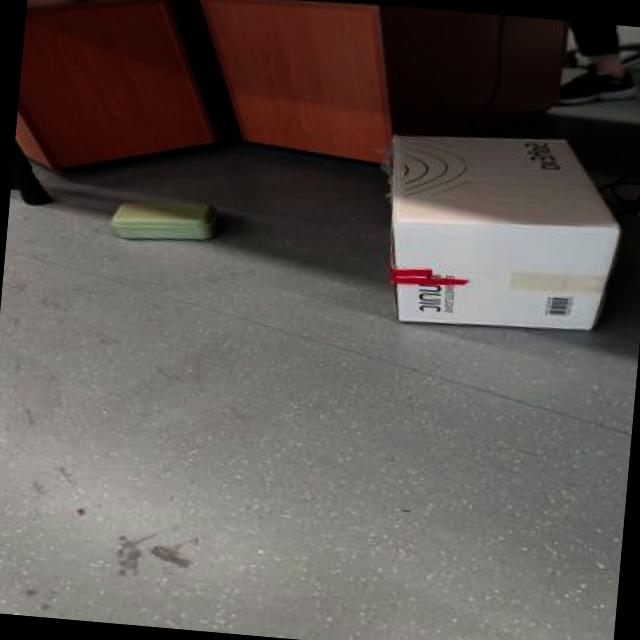box: (352, 110, 636, 363), (88, 174, 236, 264)
